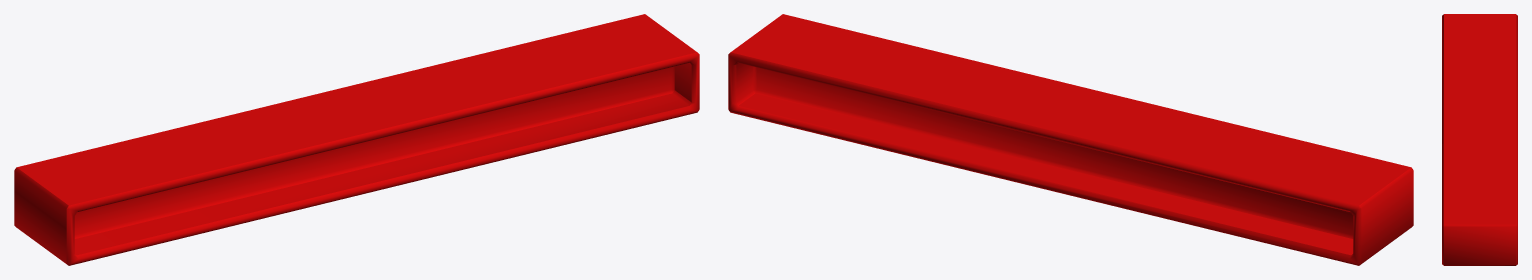
3 renders of one model, left to right at view 1: azimuth 30°, elevation 25°; view 2: azimuth 150°, elevation 25°; view 3: azimuth 270°, elevation 25°, orthographic. The views are drawn at different scales.
Visible parts, largest first — view 1: Mesh; view 2: Mesh; view 3: Mesh.
Boxes of the visible parts, x1,y1,x2,y2 form: Mesh: (14,14,699,265); Mesh: (728,14,1413,265); Mesh: (1442,14,1517,265).
Bounding box in the file's own units: 6 × 0.5466 × 0.9072.
